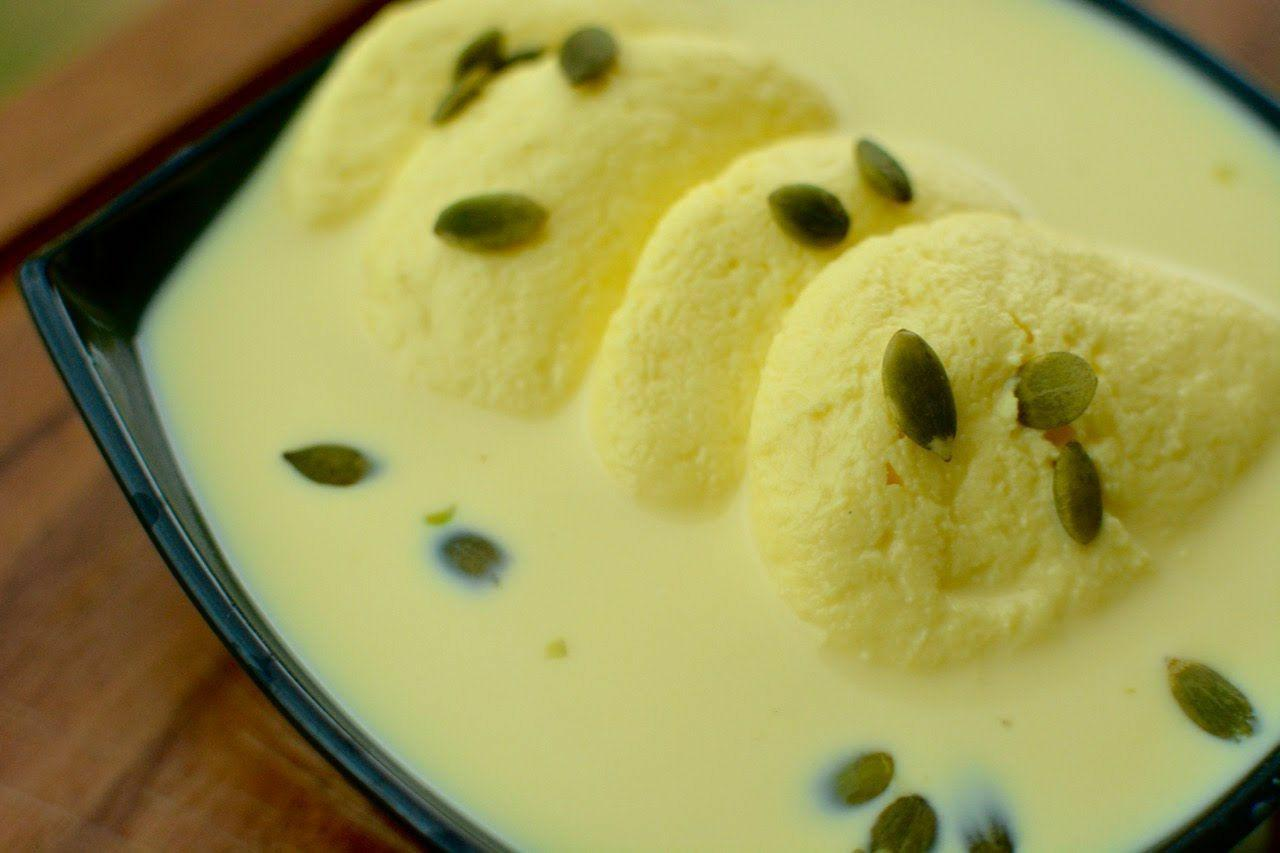RasMalai: (116, 0, 1280, 853)
